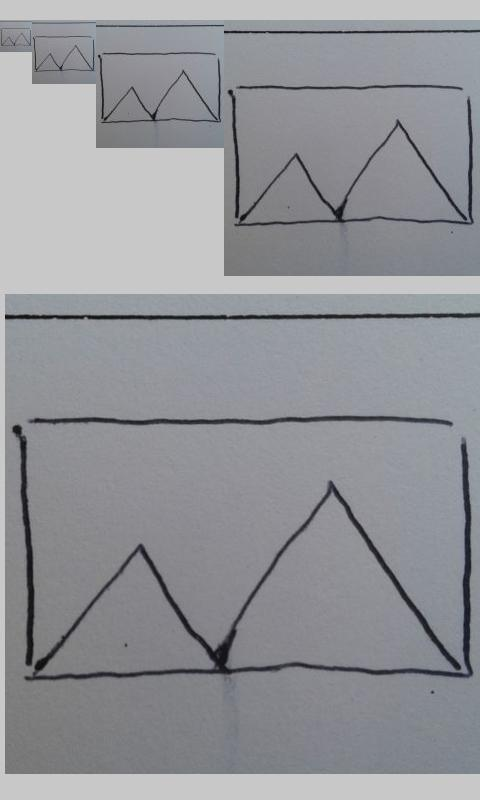image_view: (13, 411, 475, 687), (229, 80, 474, 229), (98, 51, 222, 123), (33, 35, 95, 73), (1, 27, 31, 47)
